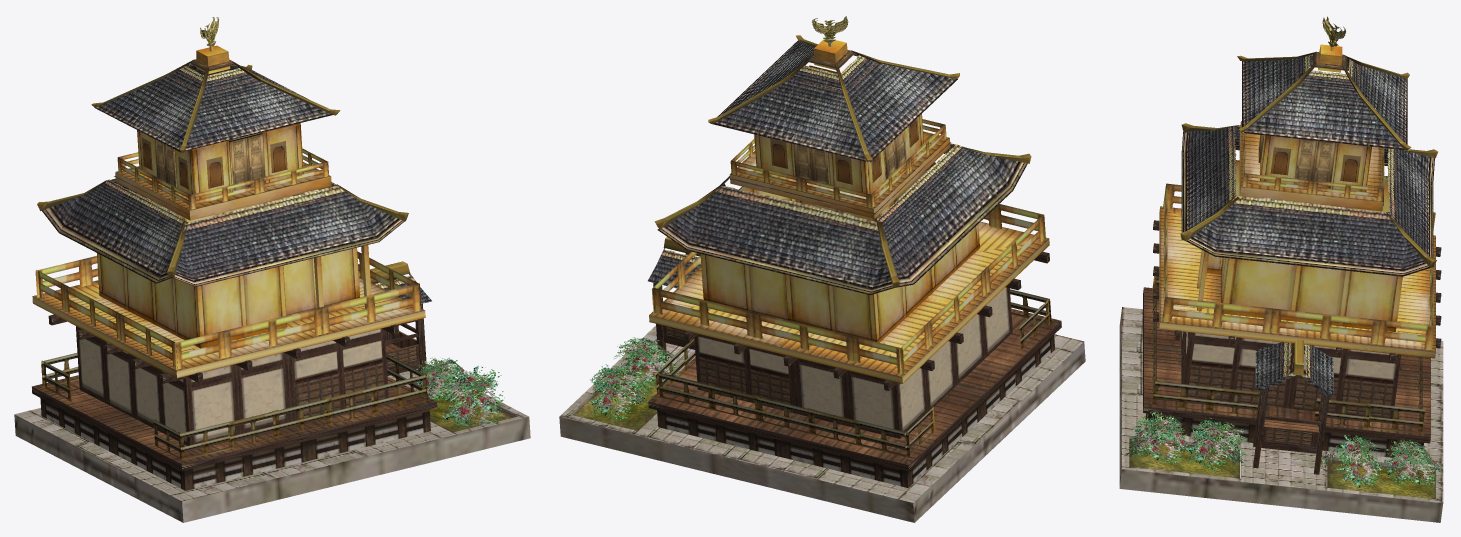
The model's file is golden_pavilion.fbx.
3 views of the same model, side by side, from view 1: azimuth 30°, elevation 25°; view 2: azimuth 150°, elevation 25°; view 3: azimuth 270°, elevation 25° (orthographic). The views are drawn at different scales.
Visible parts, largest first — view 1: Object01, Object02; view 2: Object01, Object02; view 3: Object01, Object02.
Part boxes in pixels (box(x1,y1,x2,y2)): Object01: box(14, 45, 530, 522); Object02: box(35, 17, 504, 460); Object01: box(559, 35, 1085, 522); Object02: box(589, 16, 1051, 457); Object01: box(1119, 44, 1443, 522); Object02: box(1124, 16, 1442, 487).
Bounding box in the file's own units: 11.28 × 9.76 × 13.14.
1 material, 1 textured.
